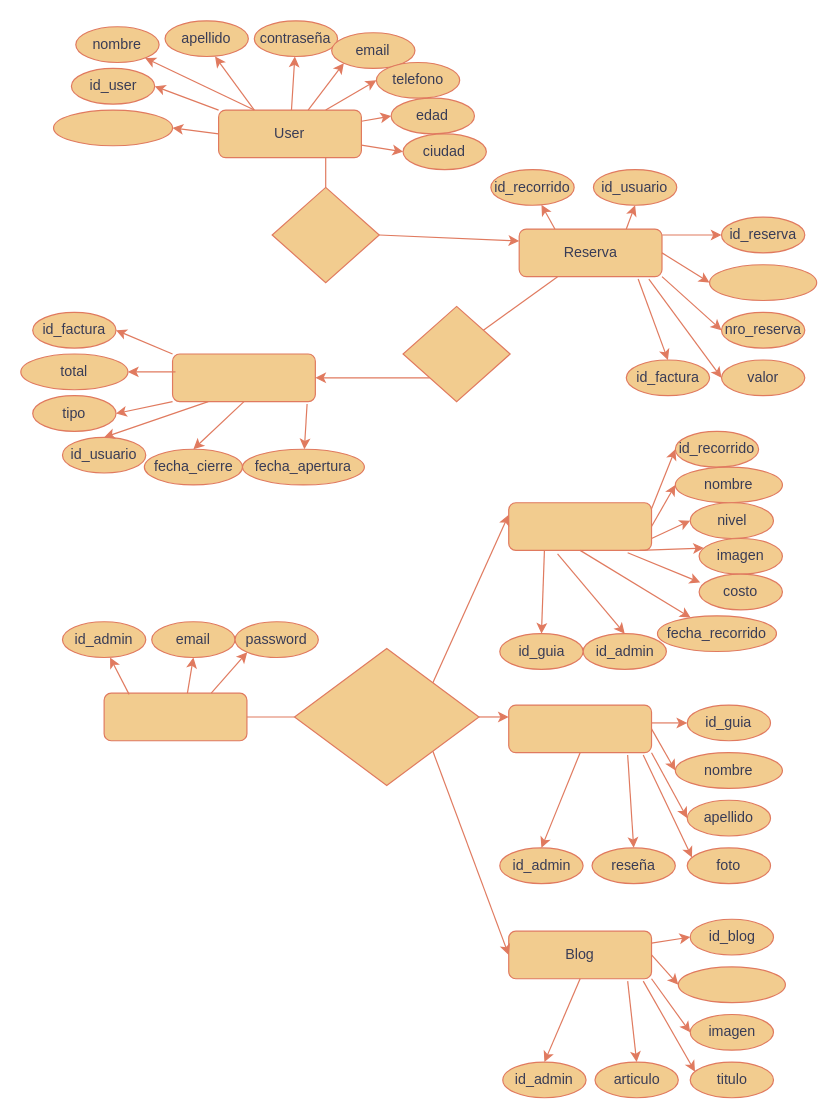
Some shapes in this 838 by 1119 pixel diagram are drawn without their labels. The shapes that lost their labels are listed below. From the top down, each one's centre as x and y in pixels, then its label:
At (112,127): "estado_reserva".
At (325,234): "Hace".
At (762,282): "fecha_reserva".
At (456,353): "Tiene".
At (243,377): "Factura".
At (580,526): "Recorrido".
At (175,716): "Admin".
At (386,716): "CRUD (Crea, Lee , Actualiza y Borra)".
At (580,728): "Guia".
At (731,984): "fecha".
